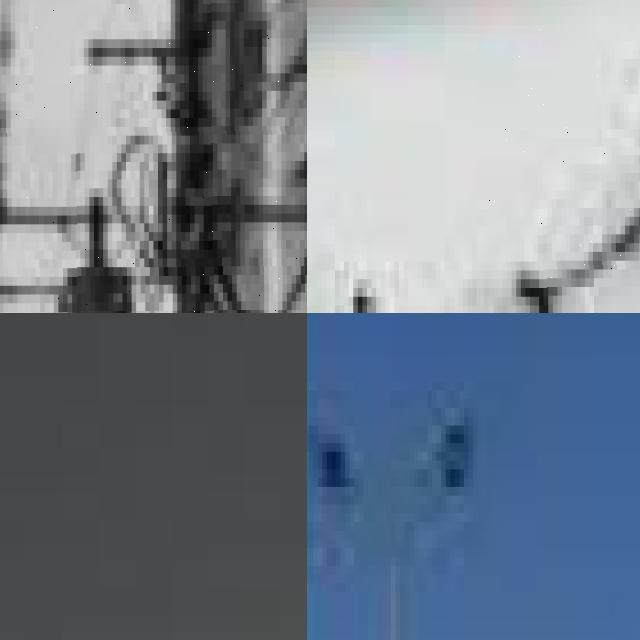street light: (0, 0, 307, 313), (476, 0, 640, 313)
